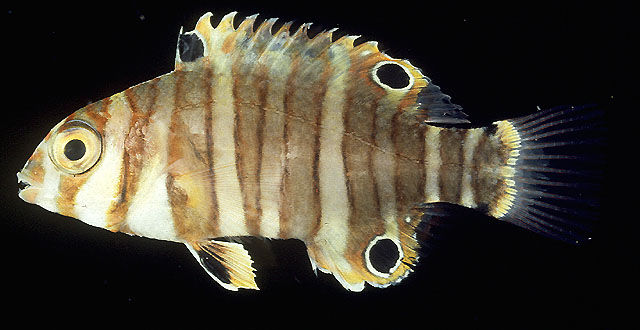fish: (17, 12, 578, 292)
